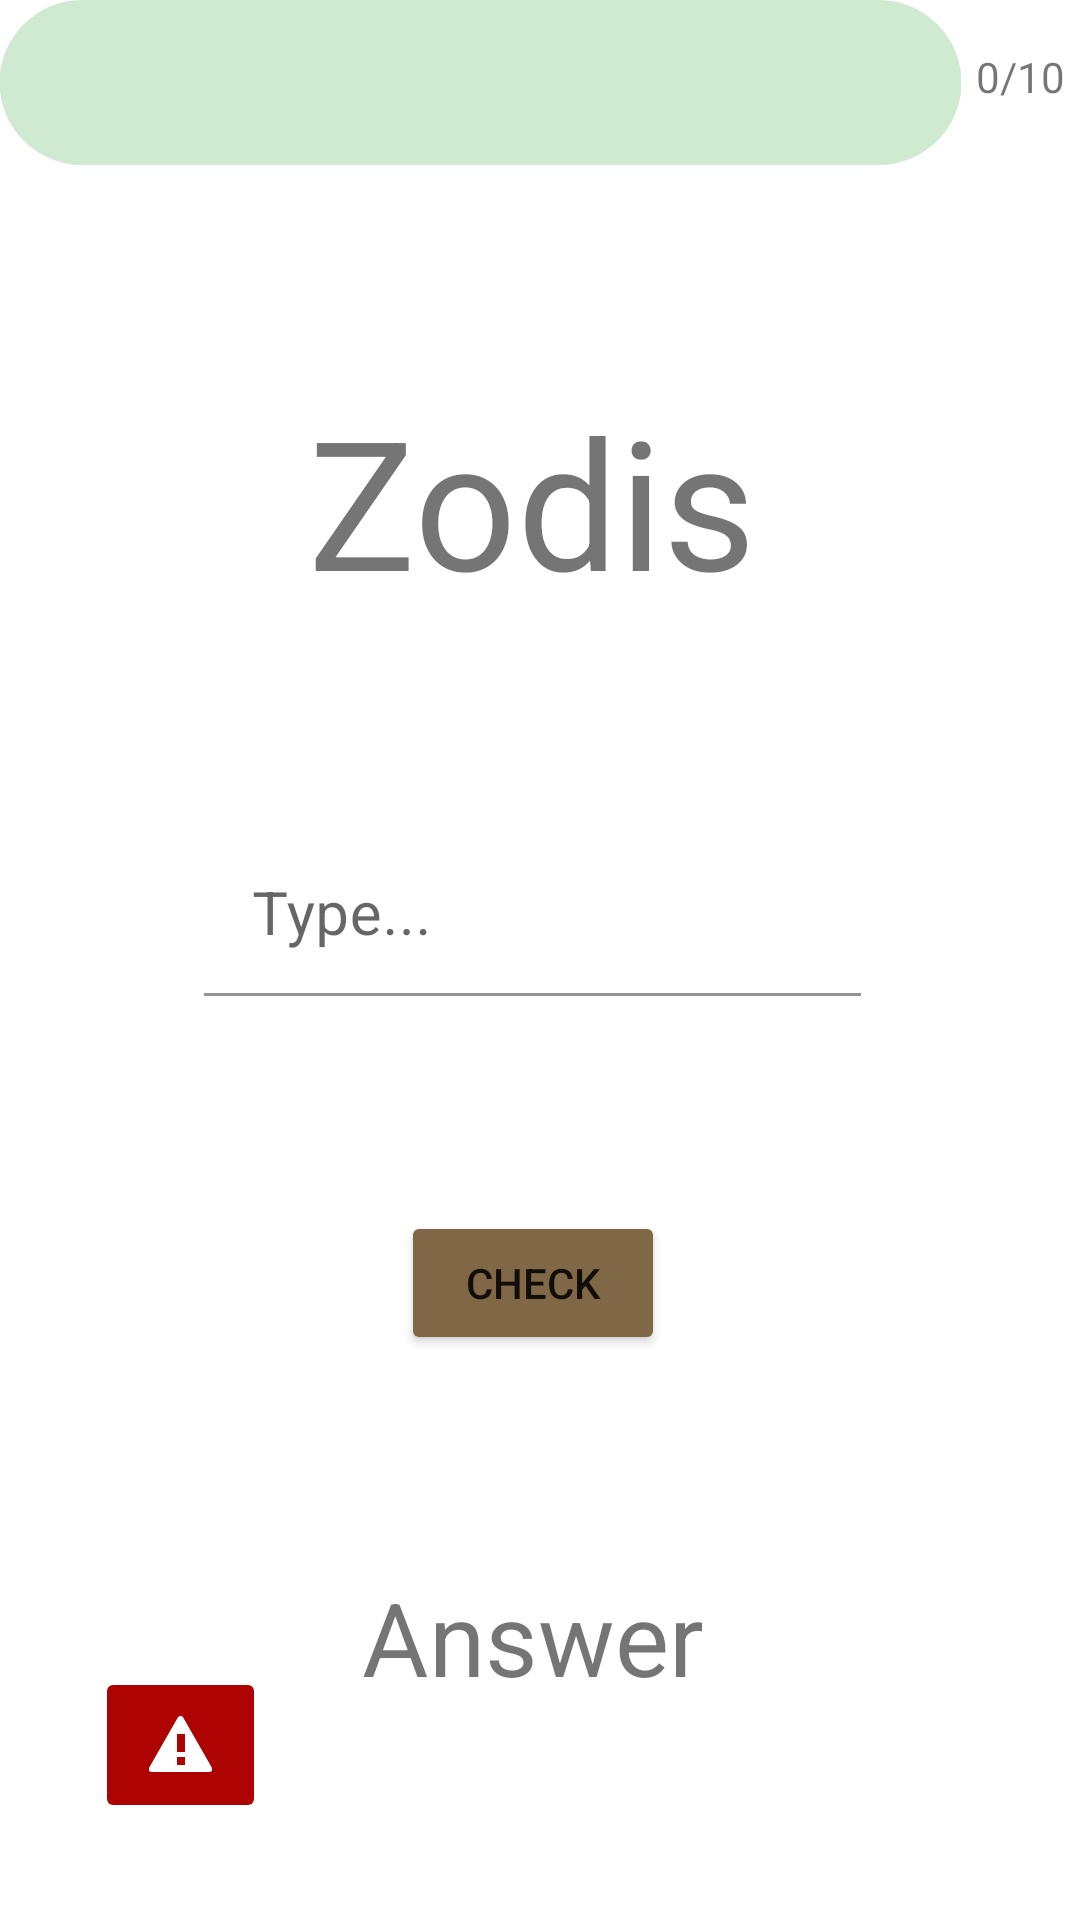

Screen size 1080px x 1920px. Icon name, then its box in pixels as region(x1, y1, x2, y2):
Mistake Report: region(107, 1685, 254, 1805)
